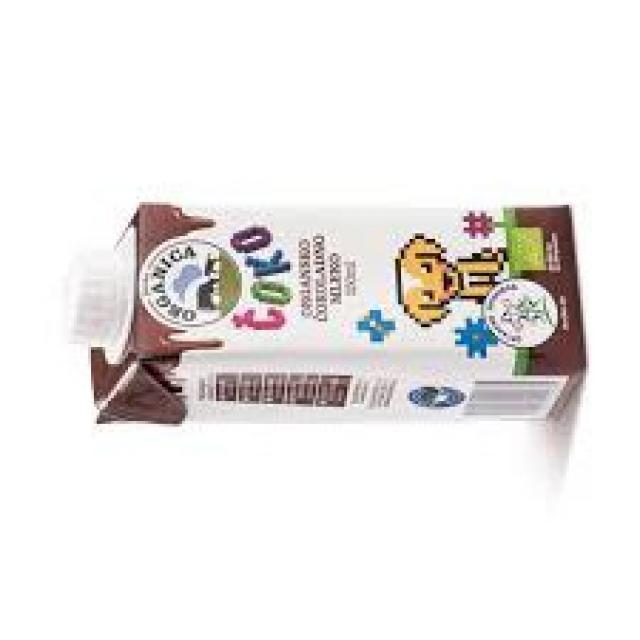non_white_jug: (57, 198, 590, 426)
